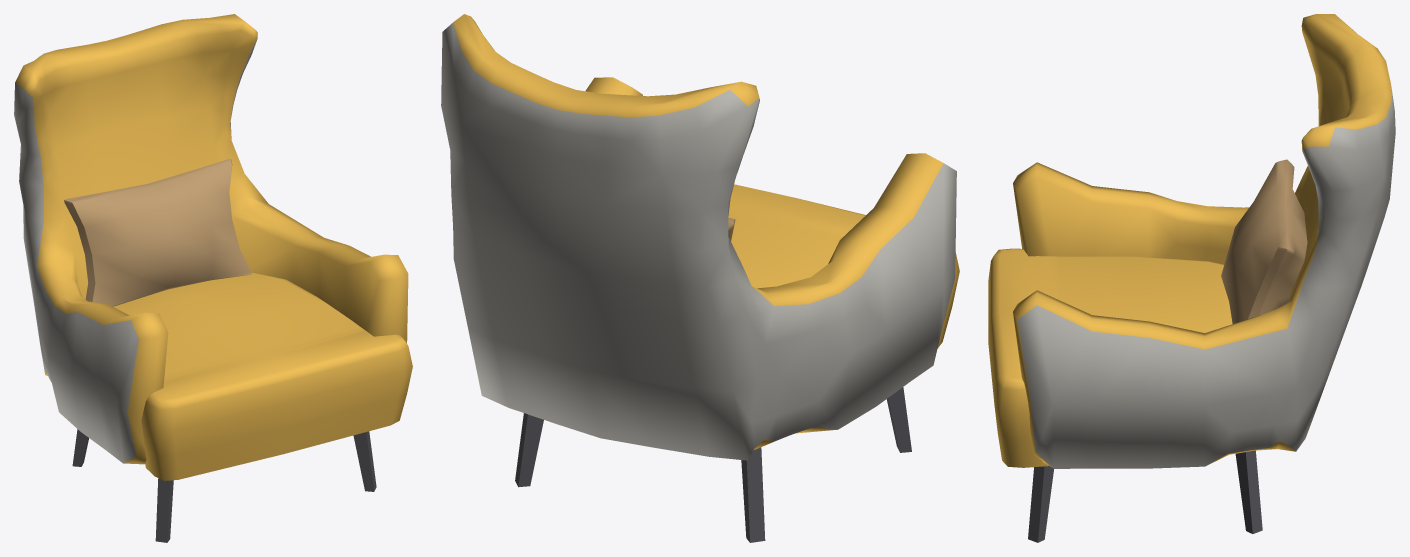
Rendered from Arm_Chair.fbx.
3 views of the same model, side by side, from view 1: azimuth 30°, elevation 25°; view 2: azimuth 150°, elevation 25°; view 3: azimuth 270°, elevation 25° (orthographic). The views are drawn at different scales.
Visible parts, largest first — view 1: Rectangle017, Rectangle018, Rectangle015, Rectangle016; view 2: Rectangle017, Rectangle018, Rectangle016; view 3: Rectangle017, Rectangle018, Rectangle015, Rectangle016.
Boxes of the visible parts, <box> form: Rectangle017: <box>14,14,408,464</box>; Rectangle018: <box>113,272,412,480</box>; Rectangle015: <box>64,159,251,306</box>; Rectangle016: <box>72,429,376,542</box>; Rectangle017: <box>441,14,956,460</box>; Rectangle018: <box>728,184,959,348</box>; Rectangle016: <box>515,387,911,542</box>; Rectangle017: <box>1013,14,1395,468</box>; Rectangle018: <box>988,248,1232,467</box>; Rectangle015: <box>1221,159,1307,323</box>; Rectangle016: <box>1028,450,1262,542</box>.
Size of the model in its own units: 91.49 by 116 by 104.
